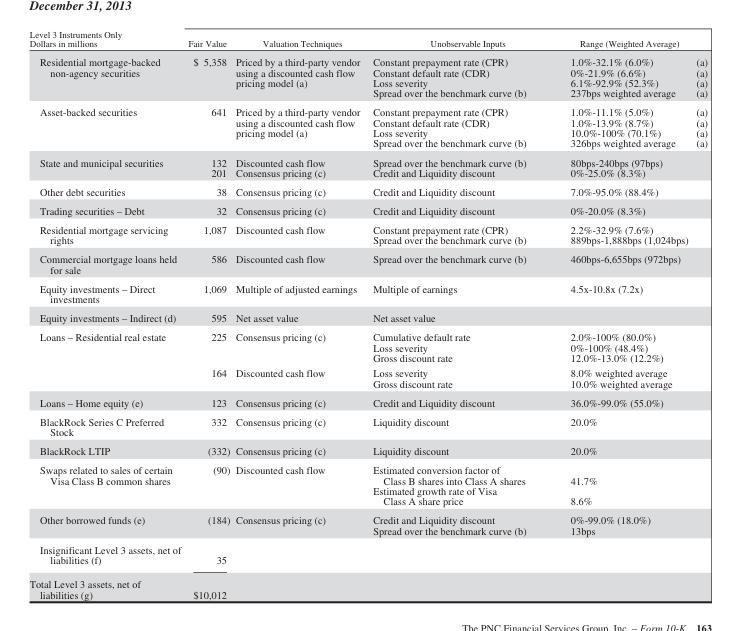table: (28, 28, 706, 599)
table column: (365, 28, 547, 599), (28, 28, 184, 599), (547, 28, 691, 599), (232, 28, 365, 599), (184, 28, 232, 599), (691, 28, 706, 599)
table column header: (28, 28, 706, 102)
table row: (28, 28, 706, 102), (28, 102, 706, 152), (28, 460, 706, 510), (28, 327, 706, 365), (28, 539, 706, 571), (28, 219, 706, 249), (28, 278, 706, 308), (28, 411, 706, 441), (28, 152, 706, 181), (28, 249, 706, 278), (28, 510, 706, 539), (28, 571, 706, 599), (28, 365, 706, 392), (28, 181, 706, 200), (28, 200, 706, 219), (28, 308, 706, 327), (28, 392, 706, 411), (28, 441, 706, 460)
